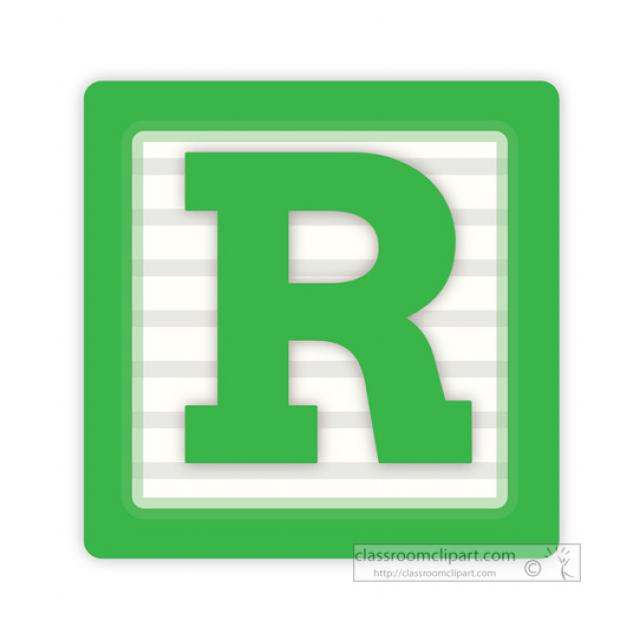R: (162, 144, 493, 490)
